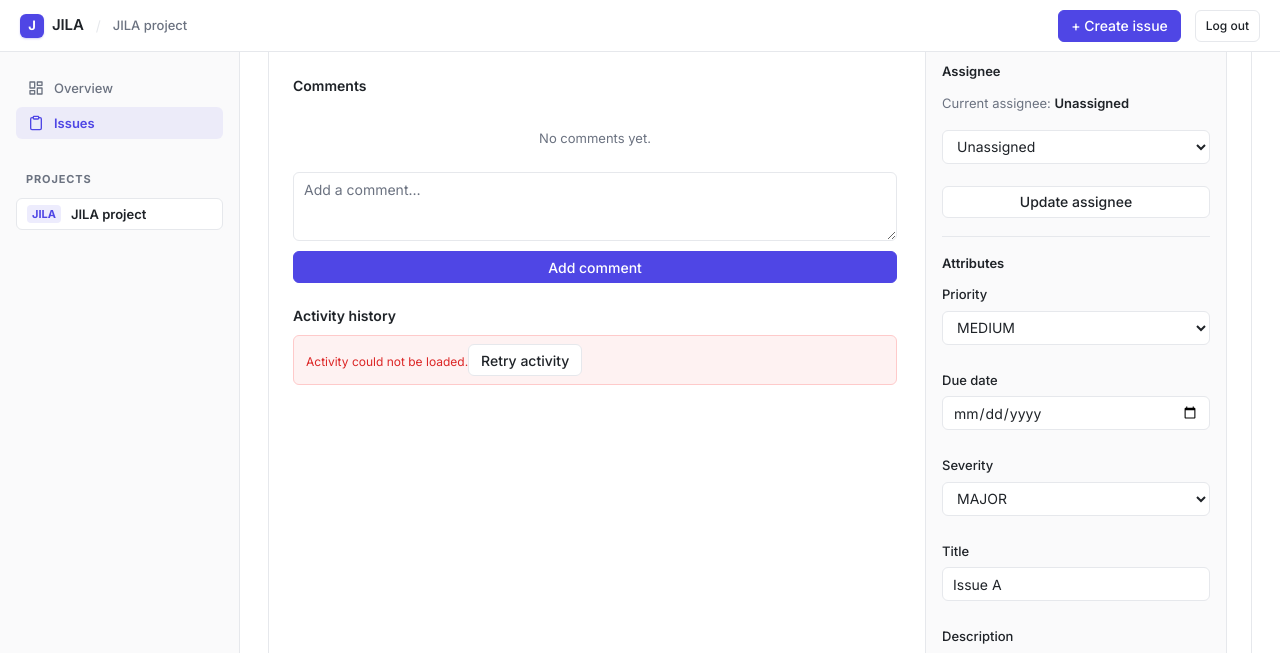
WorkspaceComponent › keeps comments and activity loading, empty, retry, and error states independent
(page scrolled)
Click the button "Retry activity" at (525, 360), box [468,344,582,376]
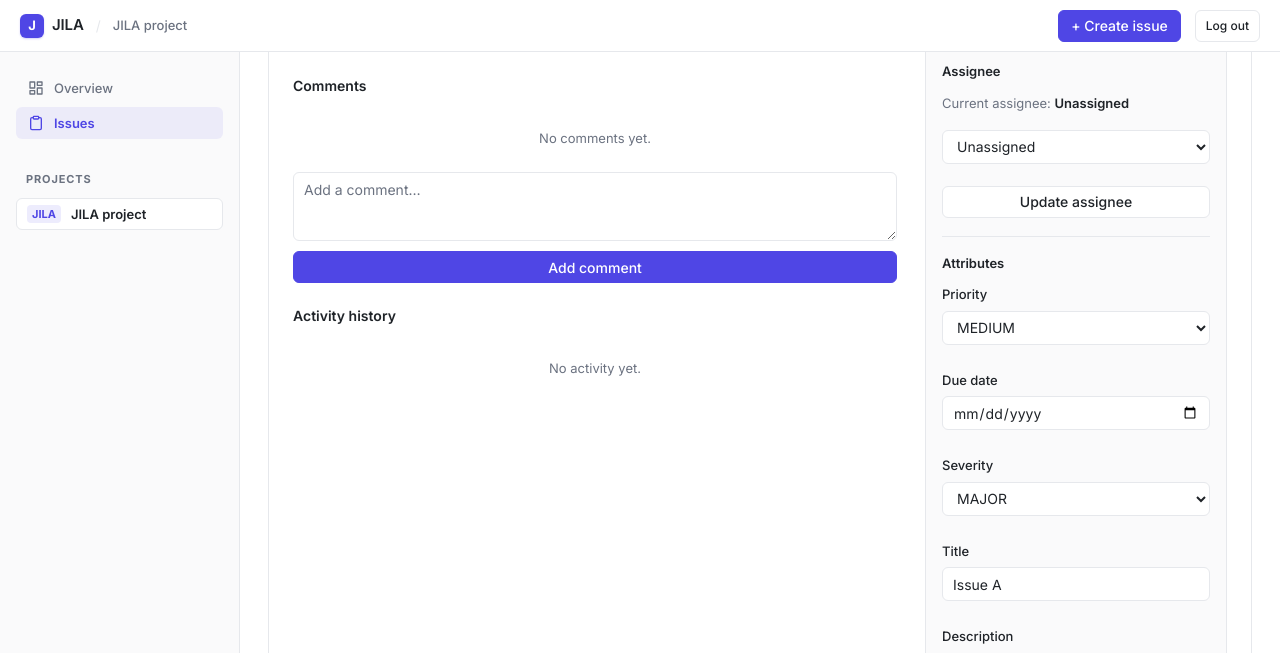
Check: the text "No activity yet." is shown, box [549,360,641,376]
Check: the text "Activity could not be loaded." is gone
